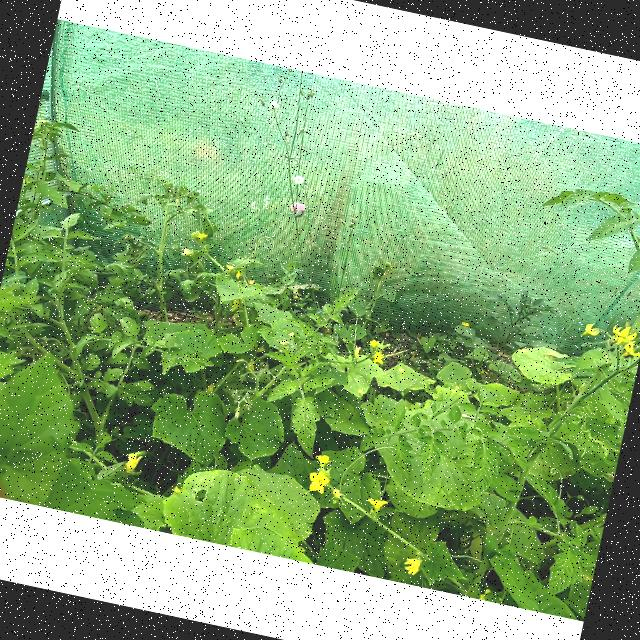Flowers: (608, 323, 640, 346), (364, 338, 389, 366), (306, 470, 332, 496), (400, 554, 426, 577), (313, 450, 335, 470), (364, 498, 388, 516), (124, 451, 142, 474), (580, 321, 600, 340), (619, 343, 640, 361), (192, 230, 208, 242), (180, 246, 192, 256)
